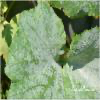Squash Powdery mildew leaf: (3, 1, 99, 99)
